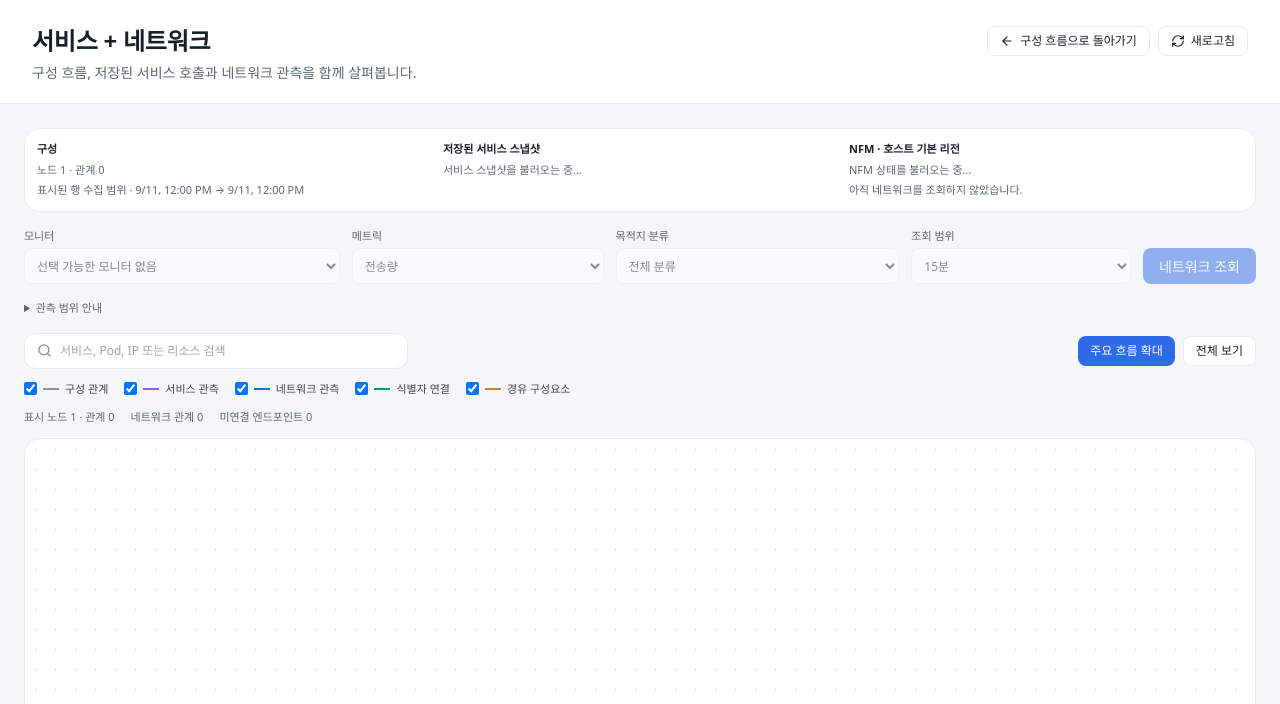
Scenario: ServiceNetworkTopology › preserves evidence filters through a query and its result
The image size is (1280, 704).
Click the checkbox labelled "서비스 관측" at (131, 389), box [124,382,137,395]
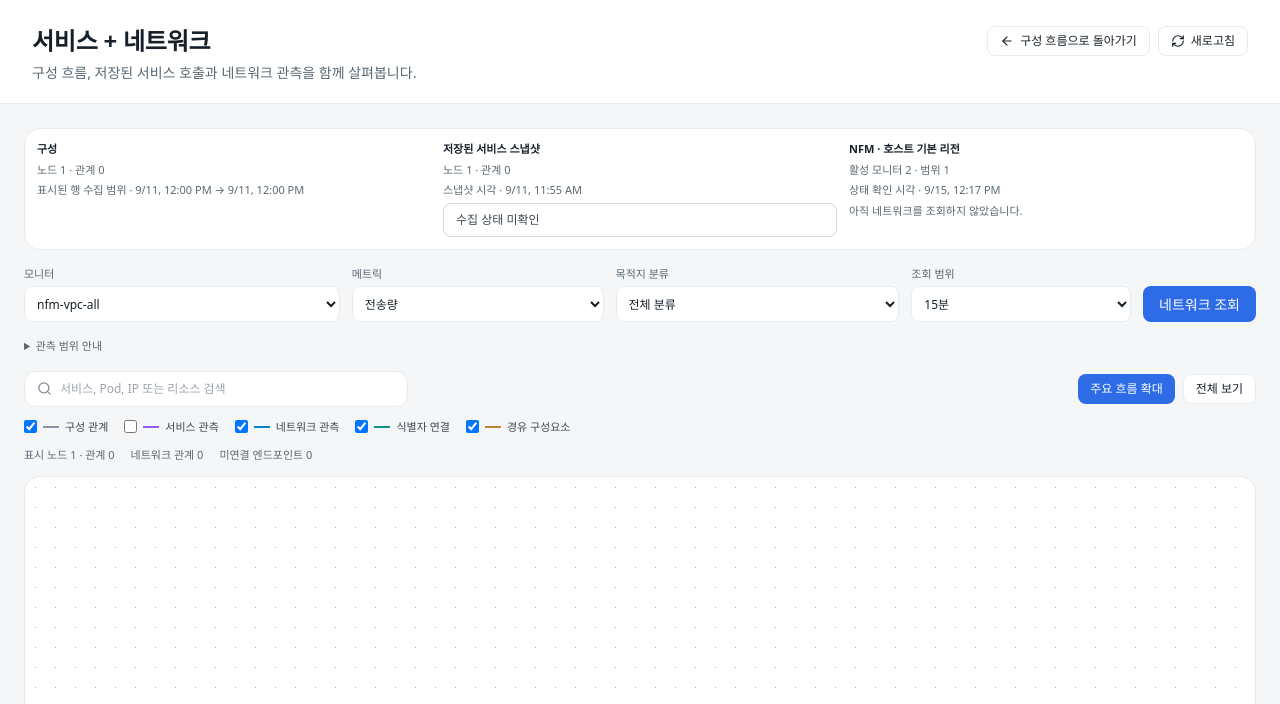
Result: the button "네트워크 조회" is enabled
Click the button "네트워크 조회" at (1200, 304), box [1143,286,1256,322]
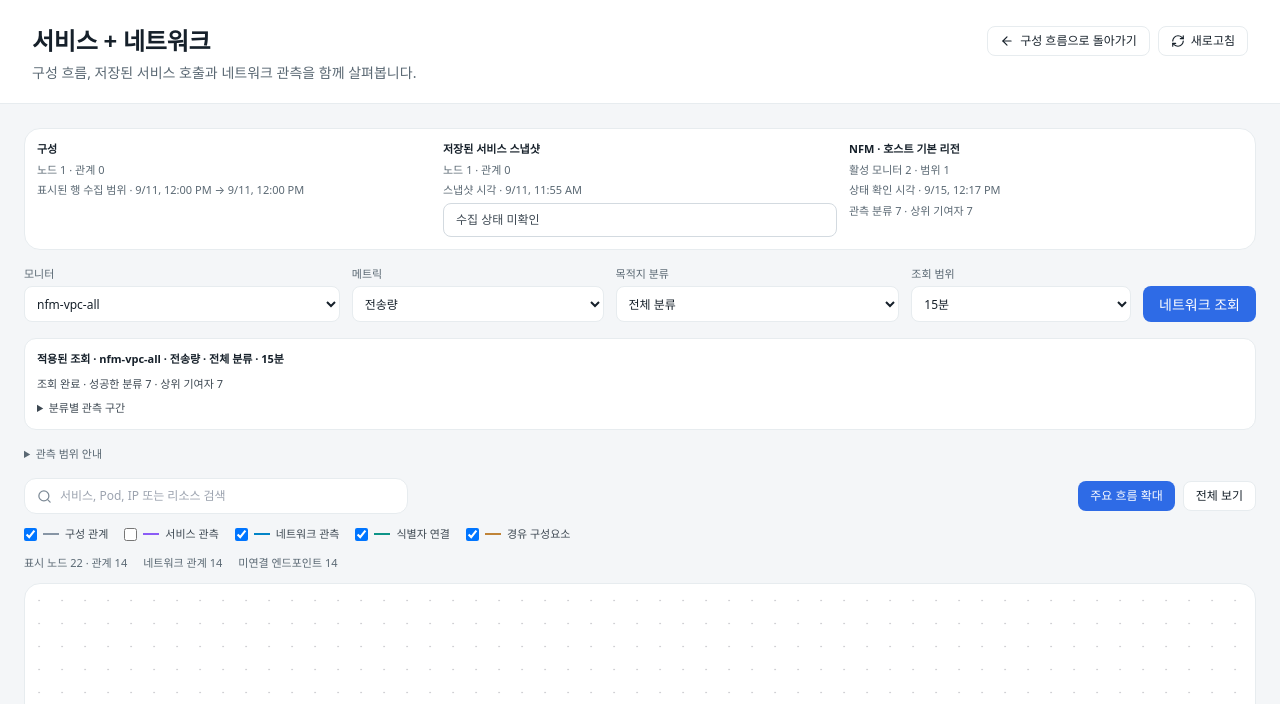
Result: the checkbox labelled "서비스 관측" is not checked at [124,528,137,541]
Result: the element named "적용된 네트워크 조회" is shown at [24,338,1256,430]
